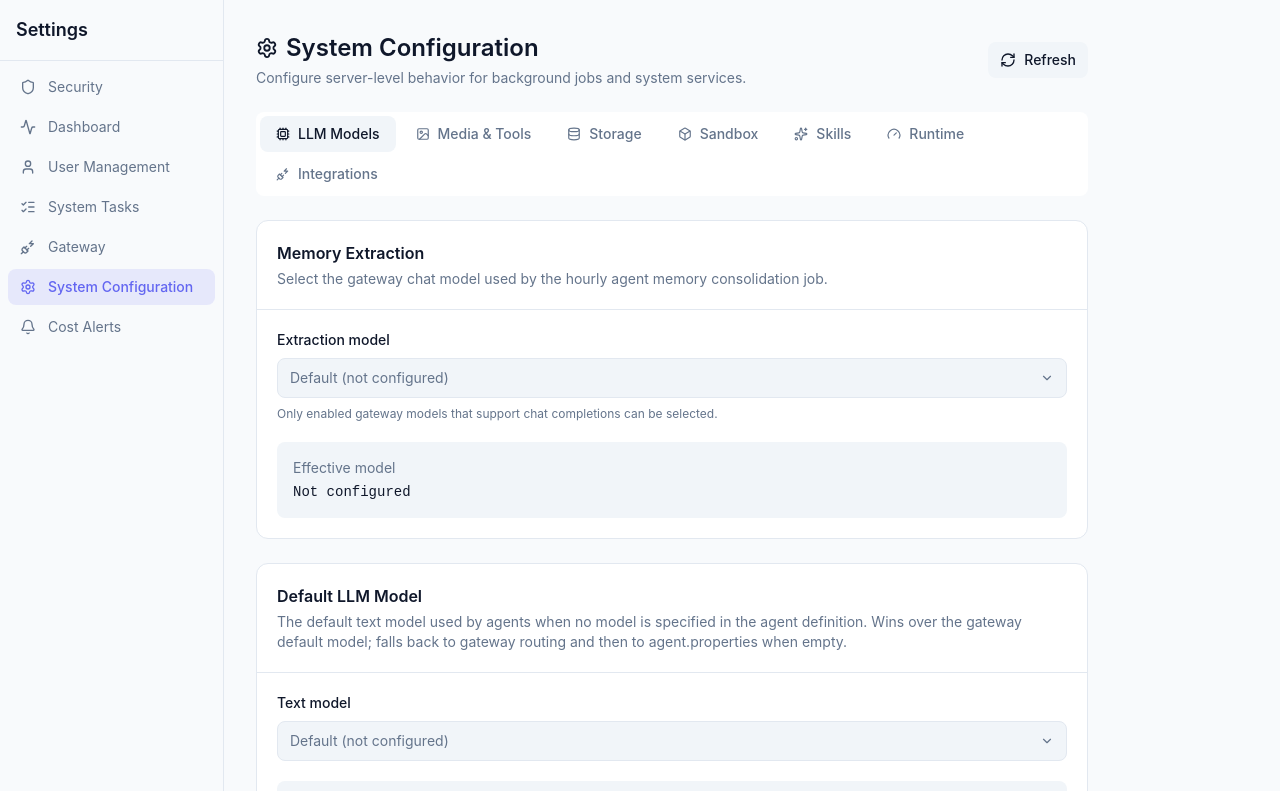
Test: System configuration sandbox permissions › shows the admin sandbox controls and saves retention independently
Click the button "Sandbox".
click(718, 134)  # box [662,116,774,152]
(page scrolled)
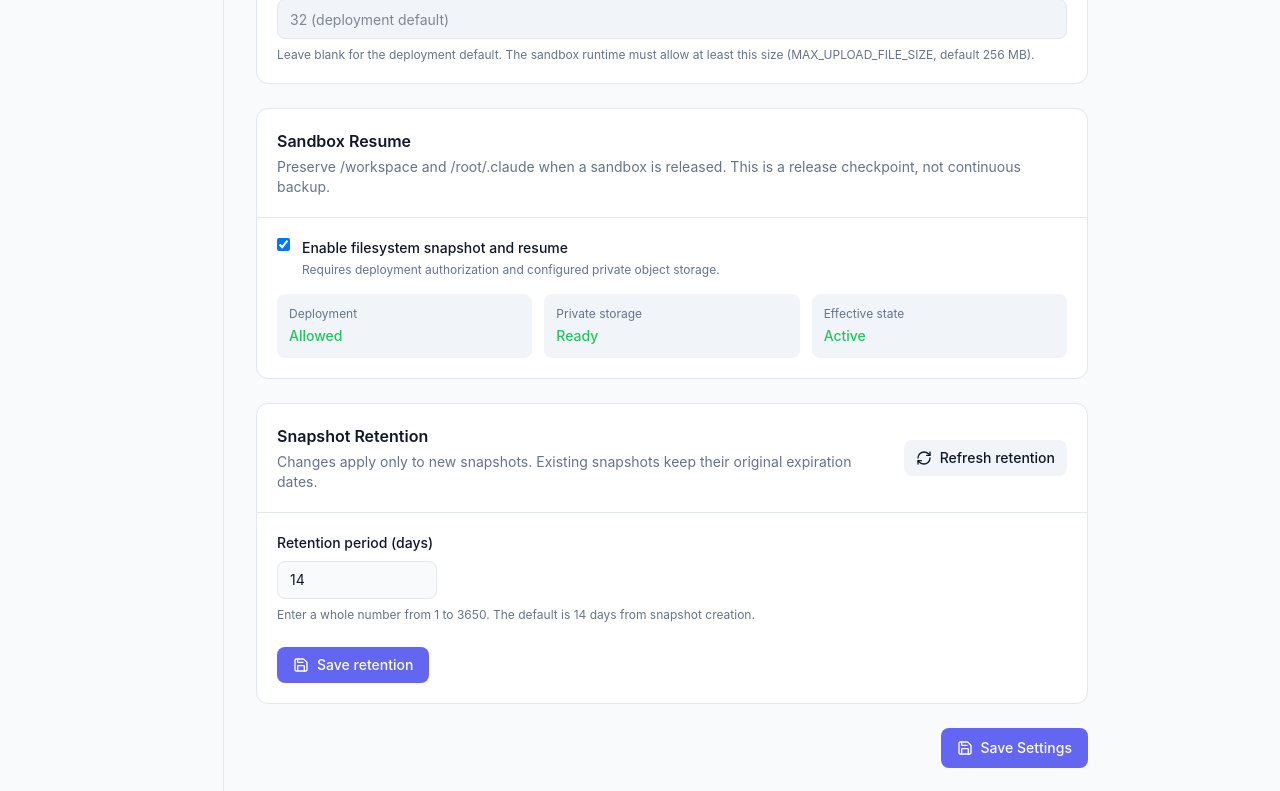
Expected: the button "Save Settings" is shown, [941,728,1088,768]
Now the checkbox labelled "Enable filesystem snapshot" is checked, box [277,238,290,251]
Now the text "Active" is shown, box [824,327,866,344]
Replace the text in the number field labelled "Retention period (days)" with "21" at (357, 580), box [277,561,437,599]
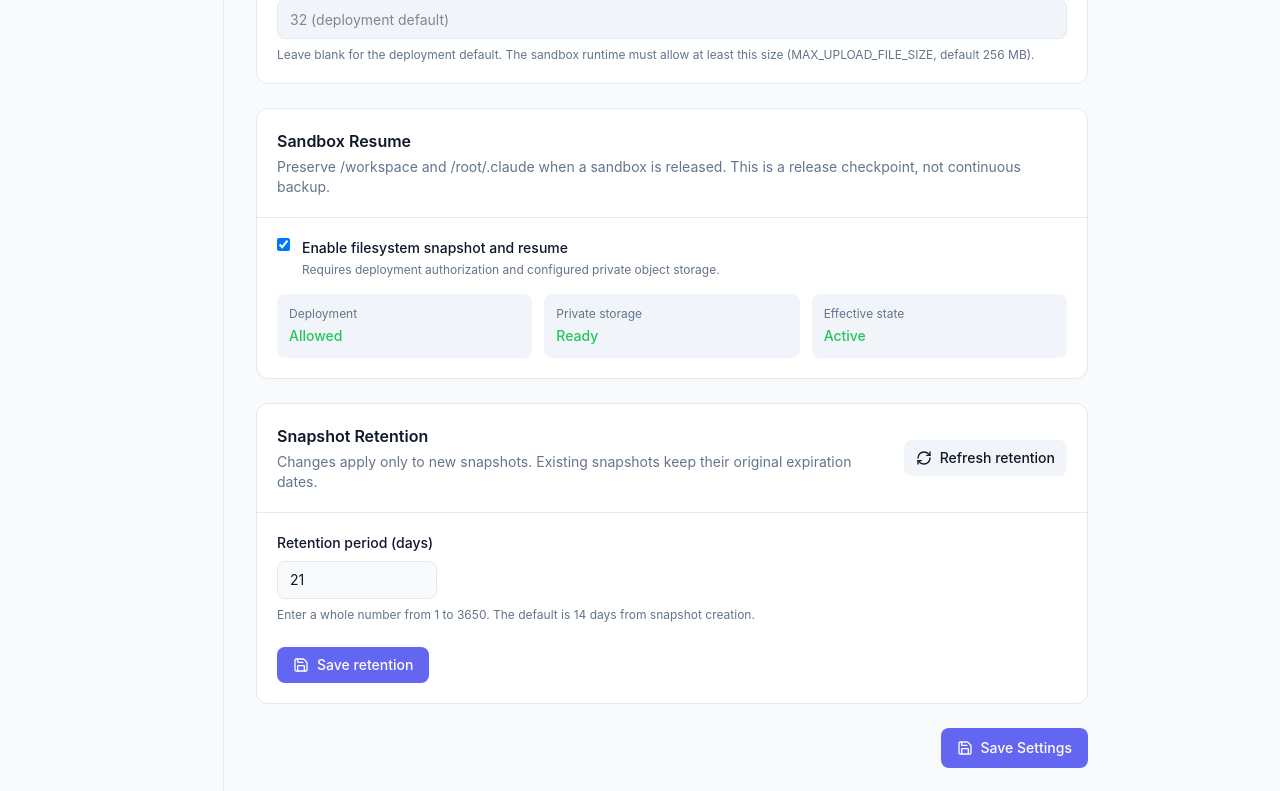
Click the button "Save retention".
click(353, 665)  # box [277,647,429,683]
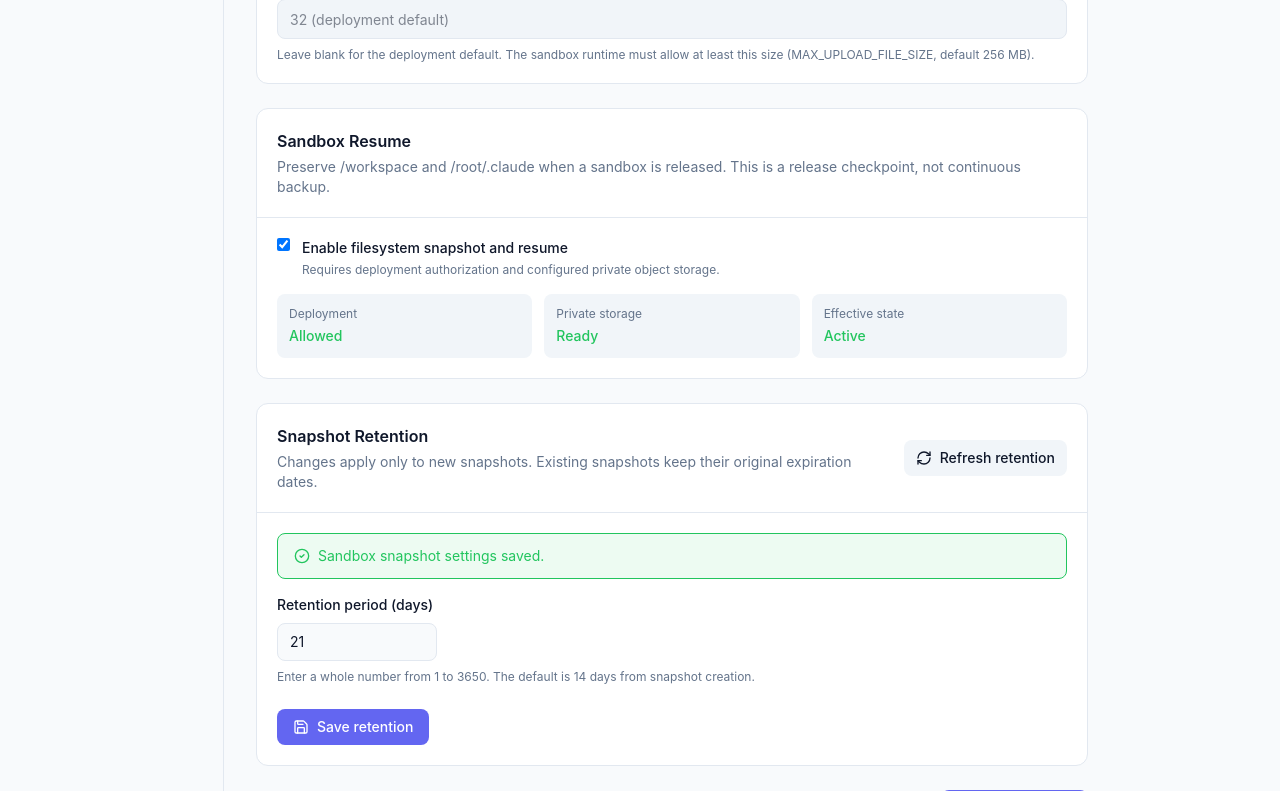
Now the message "Sandbox snapshot settings saved." is shown, box [277,533,1067,579]
